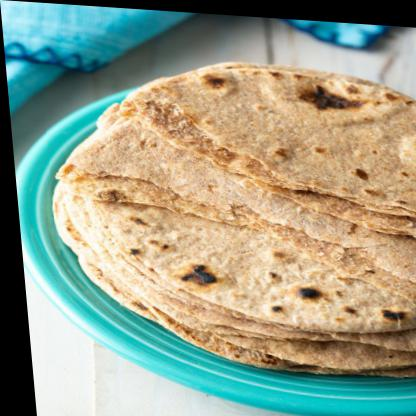roti: (38, 49, 415, 377)
